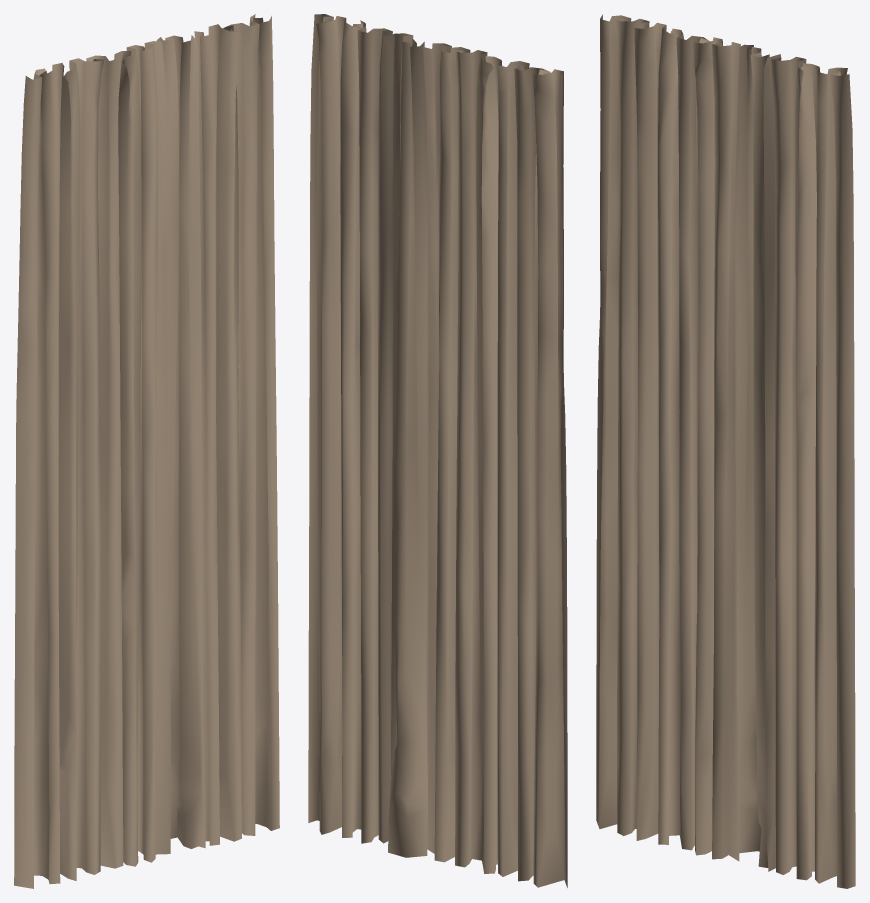
Rendered from tulle_rings_w100_h250_g80_2590_lod0.glb.
3 renders of one model, left to right at view 1: azimuth 30°, elevation 25°; view 2: azimuth 150°, elevation 25°; view 3: azimuth 330°, elevation 25°, orthographic.
Visible parts, largest first — view 1: tulle_rings_g80_2590_lod0_fabric; view 2: tulle_rings_g80_2590_lod0_fabric; view 3: tulle_rings_g80_2590_lod0_fabric.
Part boxes in pixels (x1,y1,x2,y2): tulle_rings_g80_2590_lod0_fabric: (14, 14, 279, 888); tulle_rings_g80_2590_lod0_fabric: (308, 14, 567, 887); tulle_rings_g80_2590_lod0_fabric: (596, 14, 855, 888).
Size of the model in its own units: 0.8506 by 2.52 by 0.118.
